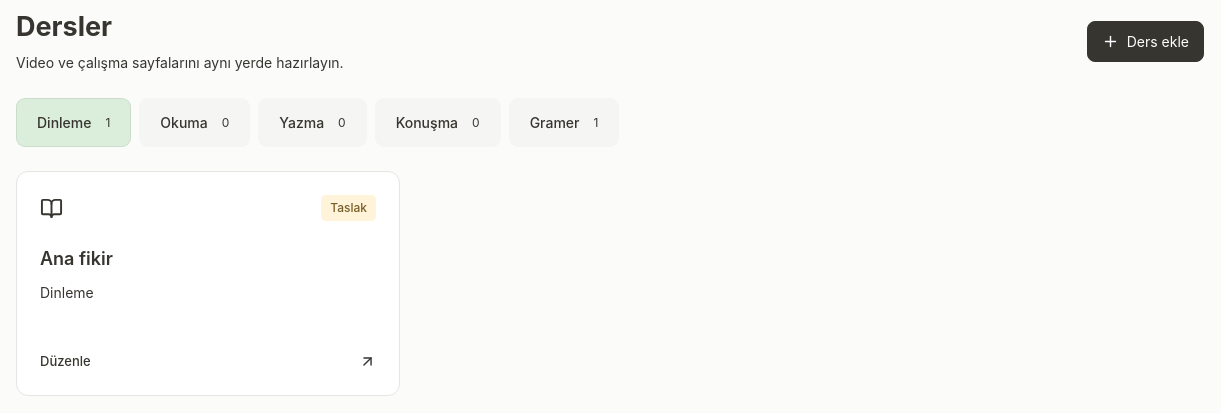
Test case: lesson catalog › filters the stored category and exposes draft lessons honestly
This screenshot has width=1221, height=413.
expect the heading "Ana fikir" is shown: met, box x1=40 y1=248 x2=113 y2=269
expect the text "Taslak" is shown: met, box x1=321 y1=195 x2=376 y2=221
Click the tab "Gramer 1" at (564, 123), box x1=509 y1=98 x2=619 y2=147
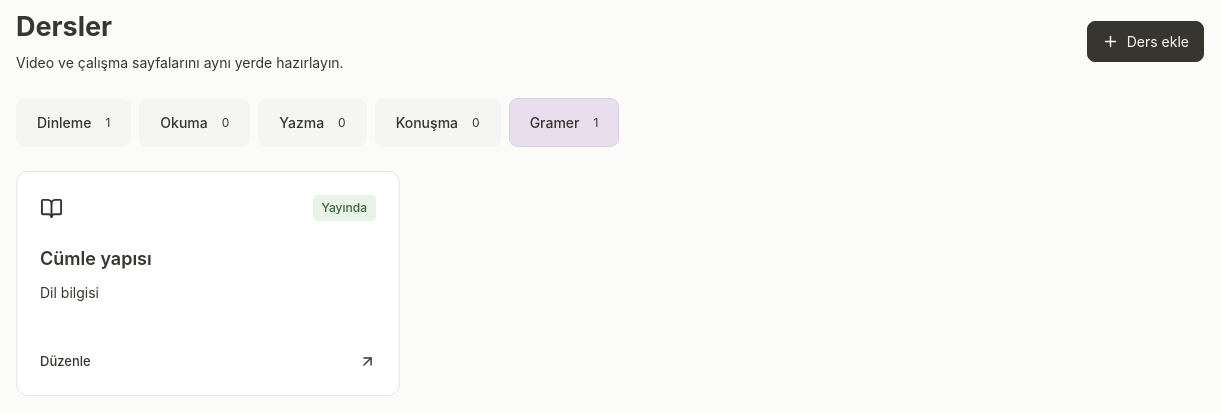
expect the heading "Cümle yapısı" is shown: met, box x1=40 y1=248 x2=152 y2=269
expect the link "Ana fikir" is gone: met
